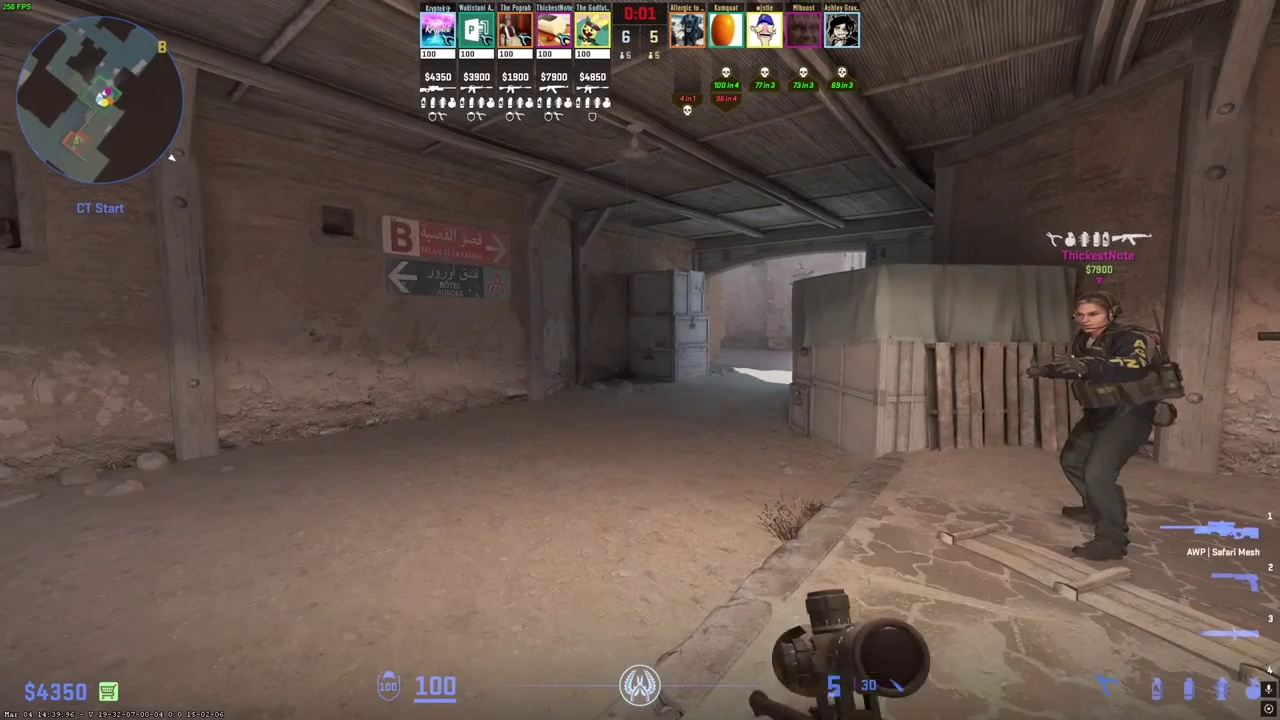CT: (1047, 291, 1171, 561)
